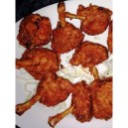chicken_lollipop: (15, 73, 69, 117), (53, 80, 94, 128), (63, 2, 111, 36), (52, 3, 83, 51), (73, 44, 111, 79), (19, 12, 52, 48), (16, 53, 59, 79)
